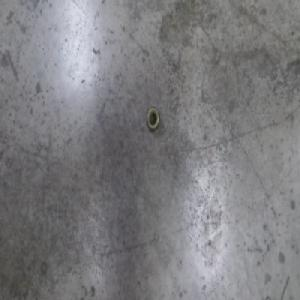Nut: (146, 104, 161, 133)
